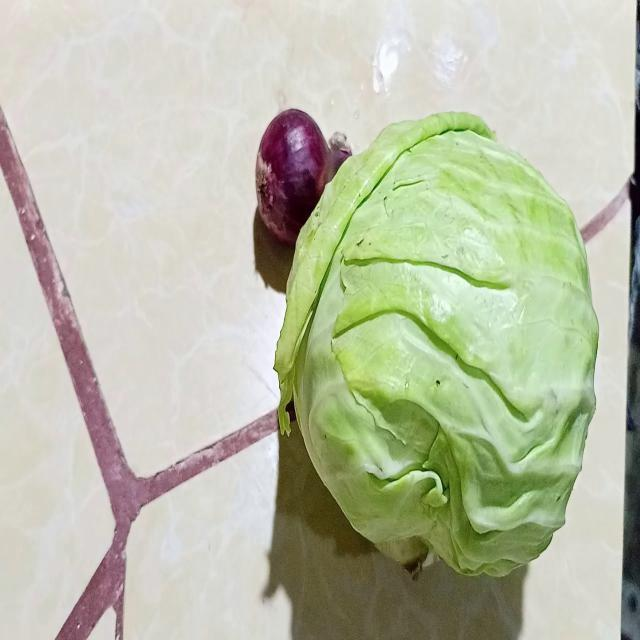cabbage: (274, 113, 599, 580)
onion: (255, 109, 352, 248)
